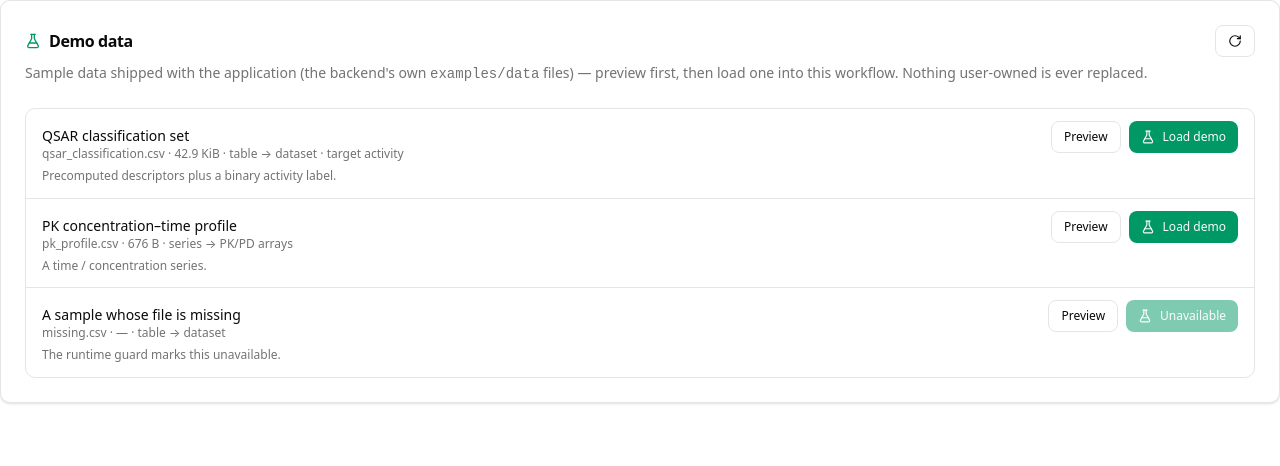
Test: DemoDataSection (part16 Phase 5) › gates the load behind an explicit confirm, then delivers the dataset
The image size is (1280, 466).
Click the button "Load demo" in the row of "· target activity": (1183, 137) [1129,121,1238,153]
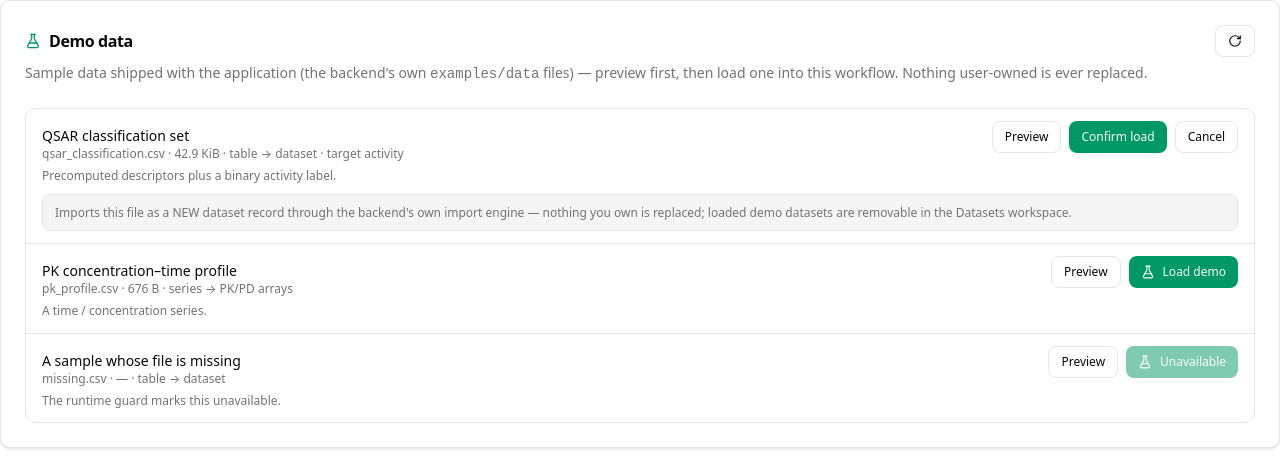
Expected: the text "NEW dataset record through the backend's own import engine" is shown, [55,204,1072,220]
Click the button "Confirm load": (1118, 137) [1069,121,1167,153]
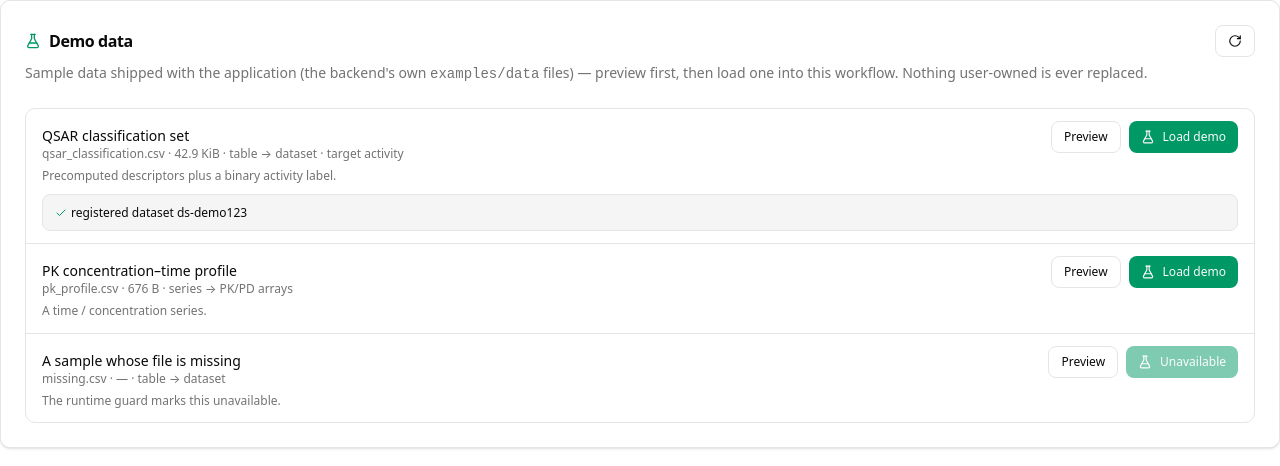
Expected: the text "registered dataset ds-demo123" is shown, [55,204,247,220]
